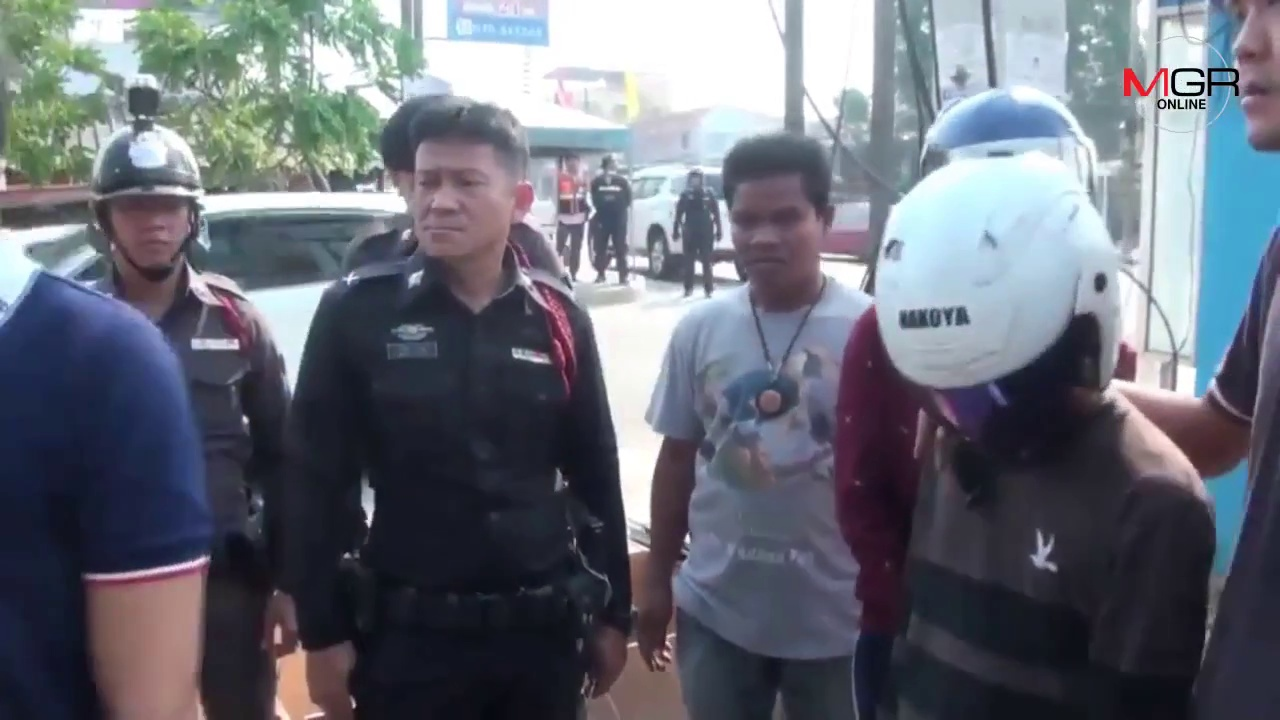helmet: (883, 167, 1125, 457), (909, 63, 1098, 155)
